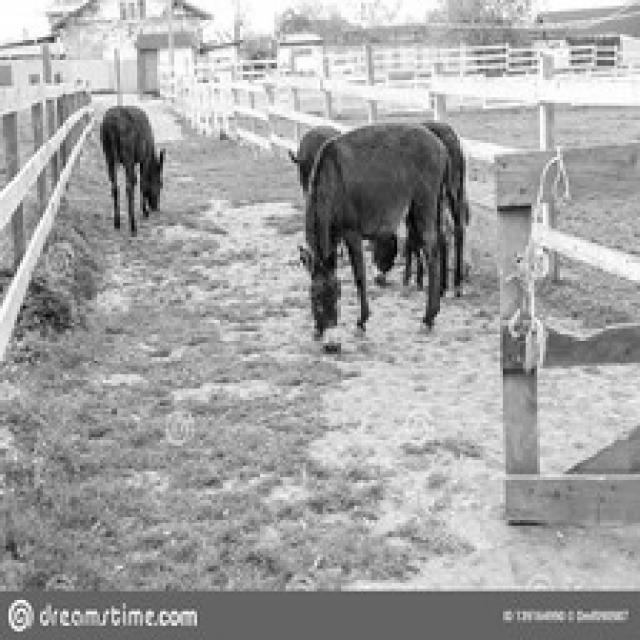Donkey: (294, 120, 452, 349), (286, 123, 397, 283), (400, 120, 469, 297), (97, 103, 163, 234)
